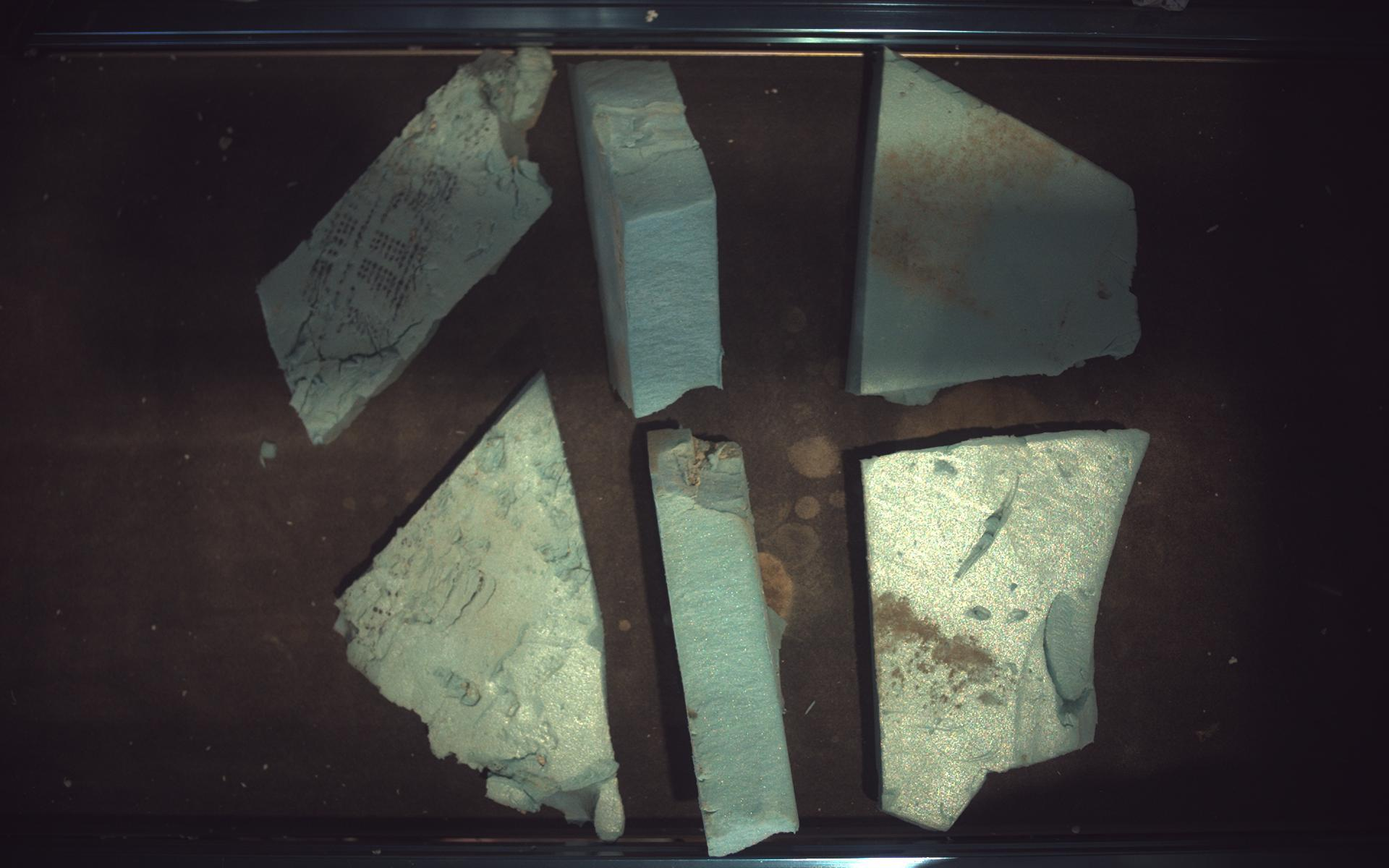foam: (335, 374, 625, 841), (257, 48, 554, 444), (864, 430, 1151, 832), (849, 47, 1143, 404), (648, 429, 799, 858), (569, 60, 723, 418)
